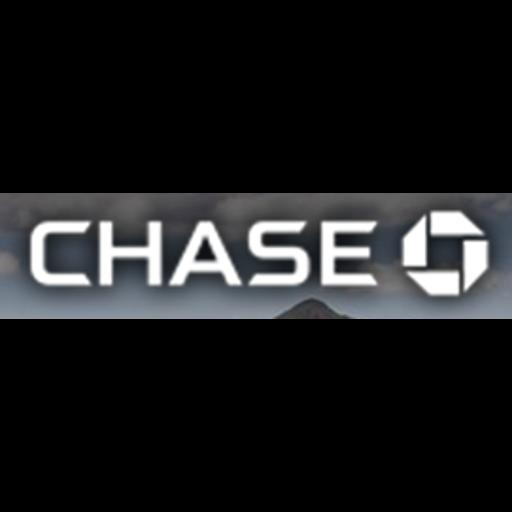Chase Personal Banking: (0, 193, 512, 319)
